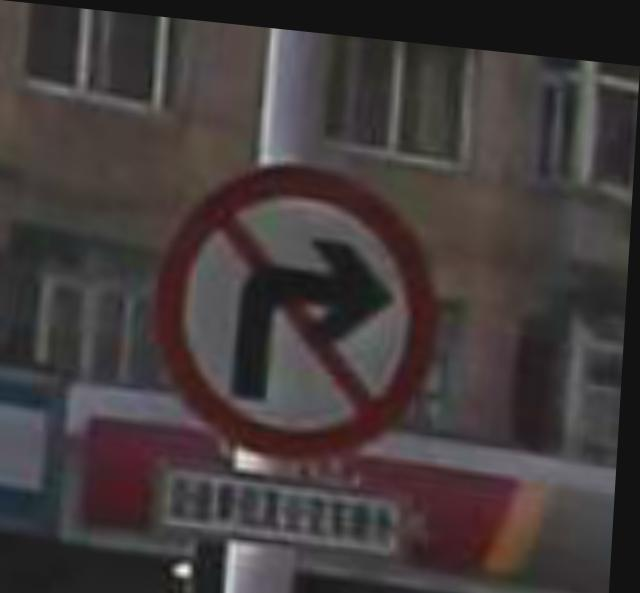not_turn_right: (148, 130, 457, 455)
